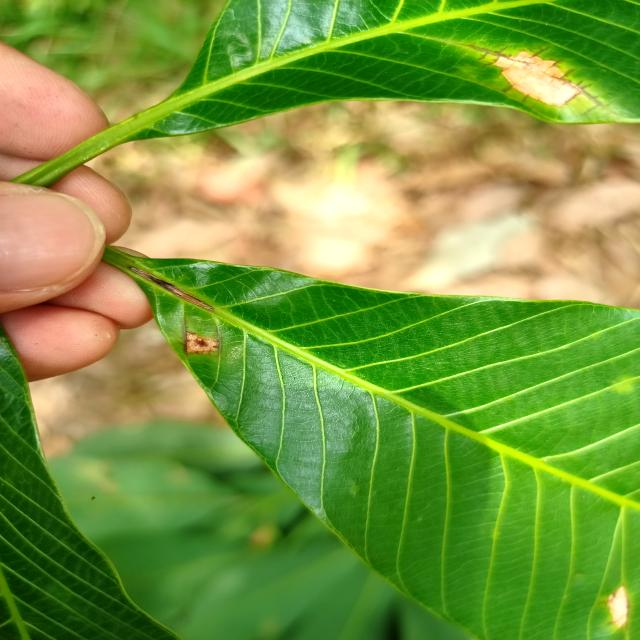Corynespora: (548, 67, 613, 115), (464, 42, 513, 68)
Leaf-Blight: (494, 52, 579, 106), (607, 585, 629, 630), (186, 332, 218, 354)
